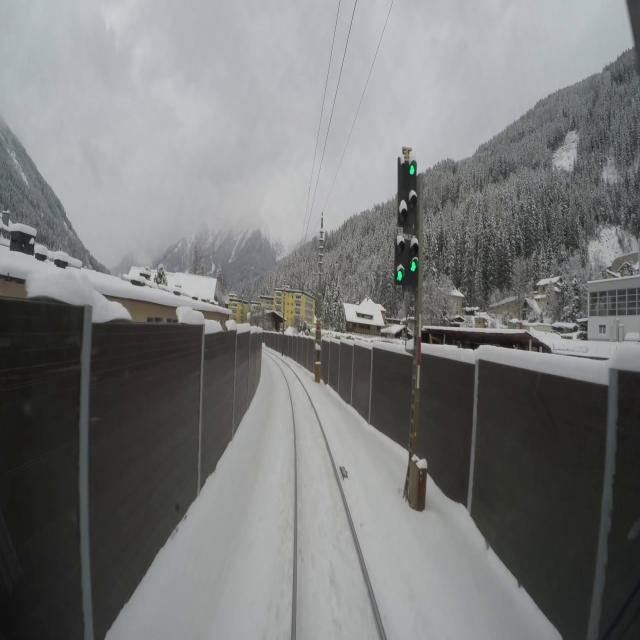rail-track: (278, 361, 381, 639)
